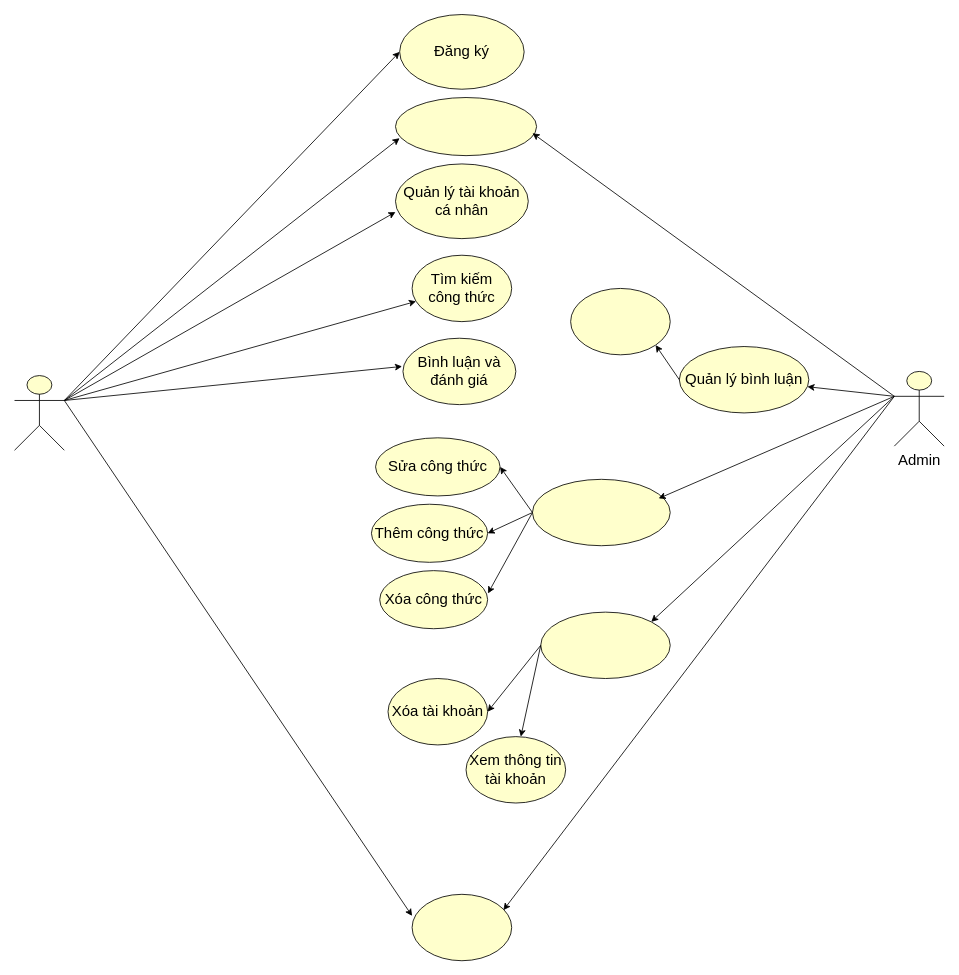
This 959x975 diagram has some shape labels left out. Each missing label, with the centre of its shape:
"Quản lý công thức" belongs at point (601, 512).
"Quản lý tài khoản người dùng" belongs at point (605, 645).
"User" belongs at point (39, 412).
"Xóa bình luận" belongs at point (620, 321).
"Đăng nhập" belongs at point (466, 126).
"Đăng xuất" belongs at point (461, 927).
